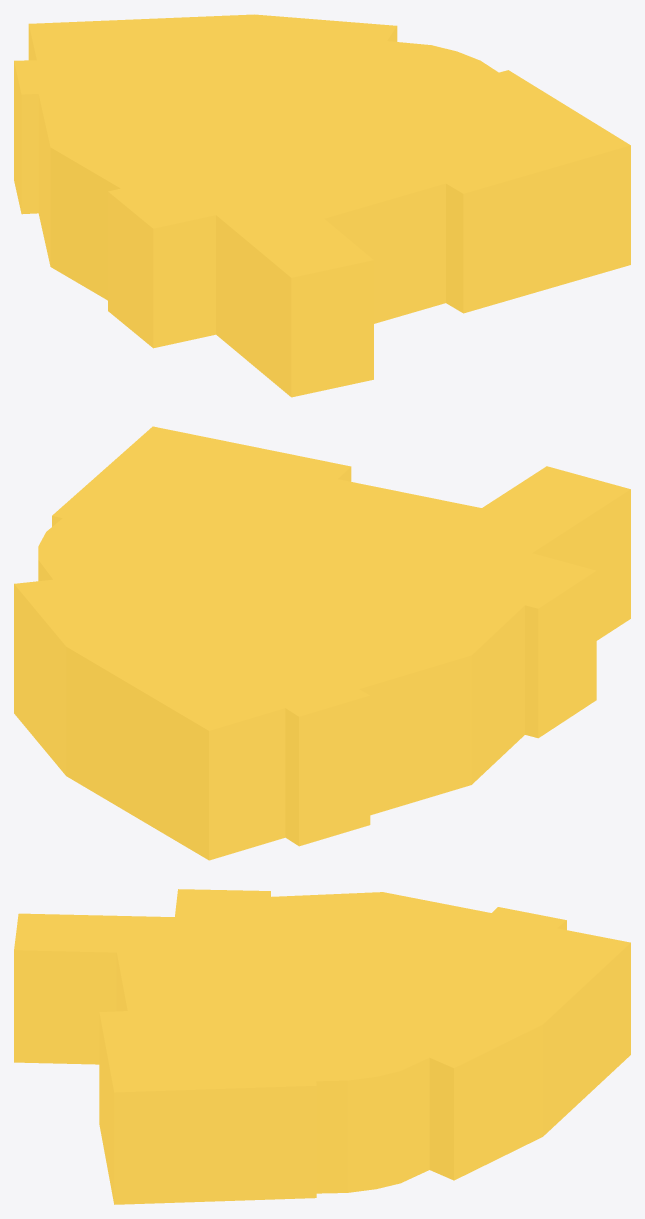
The model's file is LA LA LAND.fbx.
3 views of the same model, one above another, from view 1: azimuth 30°, elevation 25°; view 2: azimuth 150°, elevation 25°; view 3: azimuth 270°, elevation 25° (orthographic). The views are drawn at different scales.
Visible parts, largest first — view 1: ROUTE; view 2: ROUTE; view 3: ROUTE.
Part boxes in pixels (<box>): ROUTE: <box>14,14,630,397</box>; ROUTE: <box>14,426,630,860</box>; ROUTE: <box>14,889,630,1204</box>.
Size of the model in its own units: 19.95 by 25.57 by 5.14.
